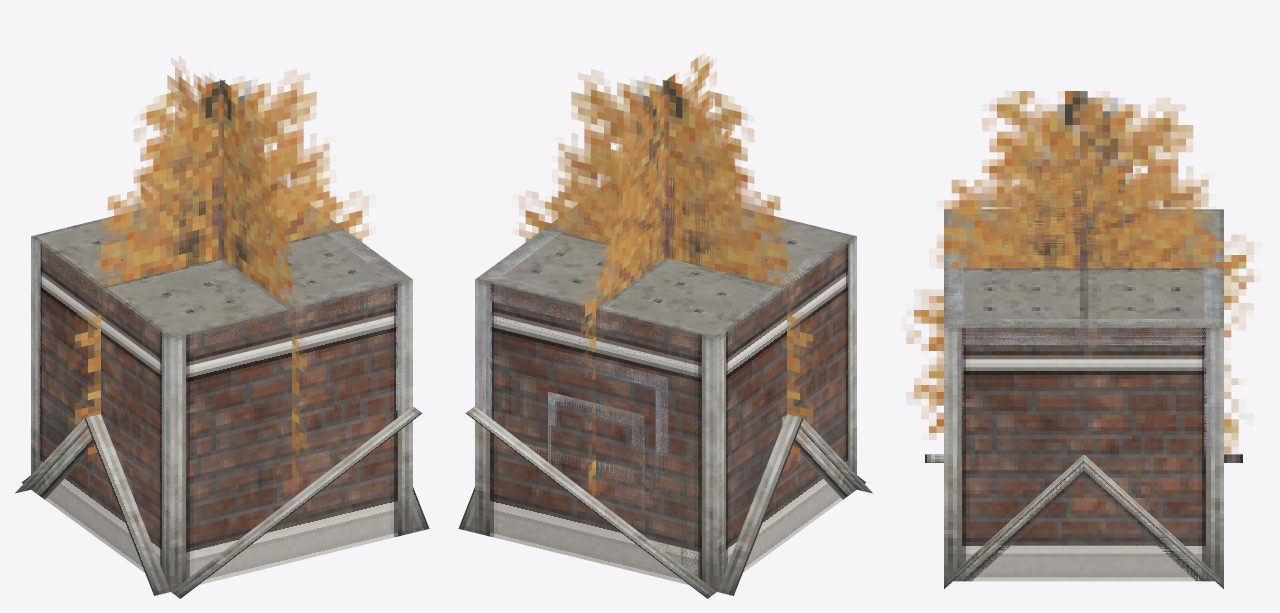
The model's file is kit_rurban.glb.
3 views of the same model, side by side, from view 1: azimuth 30°, elevation 25°; view 2: azimuth 150°, elevation 25°; view 3: azimuth 270°, elevation 25° (orthographic).
Parts seen in each view (by area): view 1: wall-a, tree-large, wall-a-low, wall-a-roof-slant-detailed, wall-a-open, wall-a-roof-detailed, wall-a-corner, wall-a-low-painted, tree-park-large, tree-pine-large, scaffolding-structure, scaffolding-poles (+2 smaller); view 2: wall-a, tree-large, wall-a-door, wall-a-low, wall-a-corner, wall-a-roof-slant-detailed, tree-park-large, wall-a-window, wall-a-roof-detailed, wall-a-low-painted, scaffolding-structure, wall-a-diagonal (+8 smaller); view 3: wall-a, tree-large, wall-a-roof-slant-detailed, wall-a-roof-detailed, tree-park-large, wall-a-open, scaffolding-structure, wall-a-diagonal, tree-pine-large, wall-a-corner, wall-b-roof-detailed, scaffolding-poles.
Boxes of the visible parts, box(x1,y1,x2,y2) form: wall-a: box(31, 186, 412, 537); tree-large: box(68, 56, 368, 484); wall-a-low: box(31, 368, 412, 591); wall-a-roof-slant-detailed: box(21, 406, 422, 598); wall-a-open: box(31, 237, 412, 513); wall-a-roof-detailed: box(15, 414, 429, 595); wall-a-corner: box(101, 207, 410, 531); wall-a-low-painted: box(31, 369, 409, 589); tree-park-large: box(99, 142, 328, 394); tree-pine-large: box(154, 75, 276, 285); scaffolding-structure: box(31, 212, 410, 488); scaffolding-poles: box(31, 236, 412, 506); wall-a: box(475, 185, 856, 532); tree-large: box(519, 53, 819, 496); wall-a-door: box(475, 280, 717, 566); wall-a-low: box(476, 377, 856, 591); wall-a-corner: box(475, 209, 856, 474); wall-a-roof-slant-detailed: box(465, 406, 866, 598); tree-park-large: box(555, 133, 788, 413); wall-a-window: box(475, 280, 717, 522); wall-a-roof-detailed: box(458, 414, 872, 595); wall-a-low-painted: box(478, 369, 856, 590); scaffolding-structure: box(475, 210, 856, 501); wall-a-diagonal: box(478, 206, 853, 278); wall-a: box(944, 209, 1223, 454); tree-large: box(906, 91, 1253, 453); wall-a-roof-slant-detailed: box(925, 454, 1242, 581); wall-a-roof-detailed: box(944, 455, 1223, 588); tree-park-large: box(942, 151, 1213, 394); wall-a-open: box(944, 327, 1223, 454); scaffolding-structure: box(944, 209, 1223, 454); wall-a-diagonal: box(944, 210, 1208, 327); tree-pine-large: box(1027, 91, 1140, 268); wall-a-corner: box(944, 209, 1223, 327); wall-b-roof-detailed: box(1084, 455, 1223, 588); scaffolding-poles: box(944, 209, 1223, 453).
Size of the model in its own units: 1.3 by 1.7 by 1.3.
18 materials, 17 textured.
